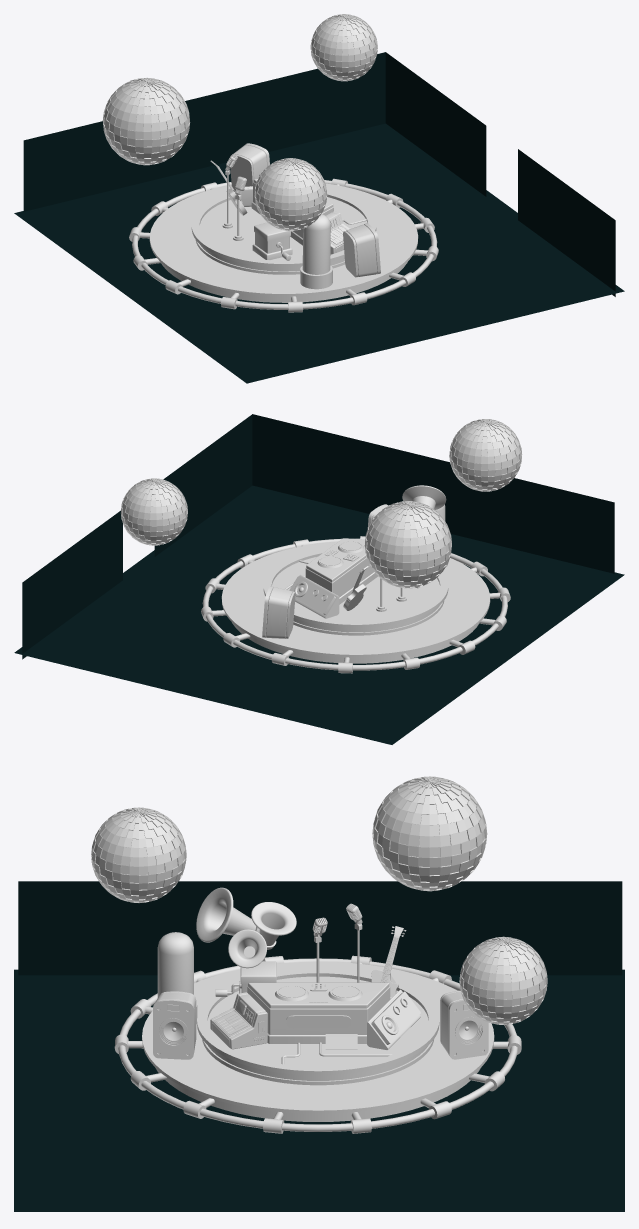
File: music.fbx
The picture shows the model from 3 angles, top to bottom: view 1: azimuth 30°, elevation 25°; view 2: azimuth 150°, elevation 25°; view 3: azimuth 270°, elevation 25°; orthographic projection. The views are drawn at different scales.
Parts seen in each view (by area): view 1: Plane.049, Vert.040, Sphere.015, Vert.043, Sphere.002, Sphere.014, Vert.039, Cube.334.frozen.001, Vert.044, Cube.334.frozen.002, bool_cube.050.extracted.003.frozen, Vert.047; view 2: Plane.049, Vert.040, Vert.043, Sphere.015, Sphere.002, Sphere.014, Vert.039, Cube.332.frozen, Cube.334.frozen.002, Cube.361.frozen, Vert.060; view 3: Plane.049, Vert.040, Vert.043, Sphere.015, Sphere.002, Cube.332.frozen, Sphere.014, Vert.039, Cube.334.frozen.001, Cube.334.frozen.002, bool_cube.050.extracted.003.frozen, Vert.044 (+6 smaller).
Boxes of the visible parts, box(x1,y1,x2,y2) form: Plane.049: box(14, 52, 624, 383); Vert.040: box(149, 183, 418, 302); Sphere.015: box(102, 77, 190, 165); Vert.043: box(191, 190, 376, 274); Sphere.002: box(254, 158, 327, 230); Sphere.014: box(310, 14, 377, 81); Vert.039: box(132, 180, 437, 309); Cube.334.frozen.001: box(343, 223, 380, 277); Vert.044: box(302, 214, 330, 274); Cube.334.frozen.002: box(230, 143, 269, 191); bool_cube.050.extracted.003.frozen: box(326, 211, 349, 254); Vert.047: box(300, 265, 332, 289); Plane.049: box(14, 414, 624, 744); Vert.040: box(221, 542, 490, 663); Vert.043: box(263, 548, 448, 635); Sphere.015: box(364, 501, 451, 588); Sphere.002: box(449, 419, 522, 491); Sphere.014: box(121, 478, 187, 545); Vert.039: box(202, 538, 507, 670); Cube.332.frozen: box(305, 538, 378, 604); Cube.334.frozen.002: box(262, 586, 295, 638); Cube.361.frozen: box(289, 574, 339, 618); Vert.060: box(402, 485, 446, 509); Plane.049: box(14, 881, 624, 1211); Vert.040: box(142, 961, 494, 1121); Vert.043: box(197, 968, 439, 1085); Sphere.015: box(372, 776, 487, 891); Sphere.002: box(91, 807, 186, 902); Cube.332.frozen: box(247, 982, 390, 1043); Sphere.014: box(459, 936, 547, 1024); Vert.039: box(118, 958, 517, 1131); Cube.334.frozen.001: box(153, 991, 196, 1059); Cube.334.frozen.002: box(440, 990, 488, 1059); bool_cube.050.extracted.003.frozen: box(210, 992, 267, 1049); Vert.044: box(157, 932, 193, 997).
Size of the model in its own units: 1296 by 580 by 1382.
